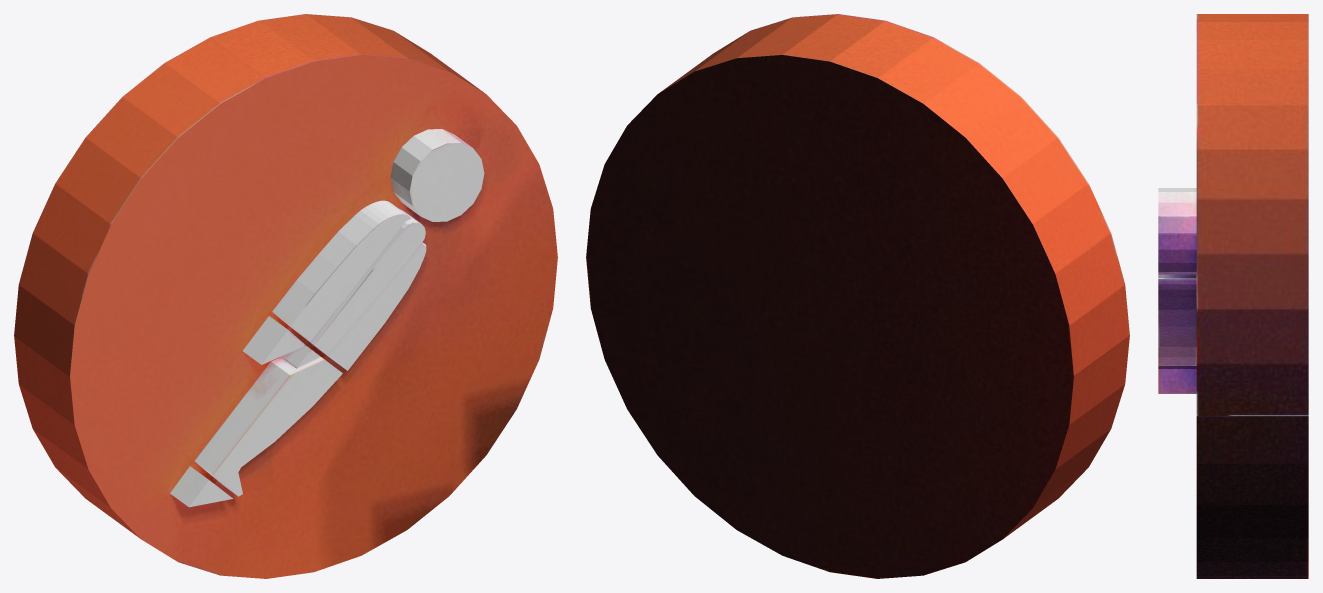
The model's file is icon_postman.glb.
3 renders of one model, left to right at view 1: azimuth 30°, elevation 25°; view 2: azimuth 150°, elevation 25°; view 3: azimuth 270°, elevation 25°, orthographic.
Visible parts, largest first — view 1: icon_postman; view 2: icon_postman; view 3: icon_postman.
Boxes of the visible parts, x1,y1,x2,y2 form: icon_postman: (14, 14, 557, 578); icon_postman: (586, 14, 1129, 578); icon_postman: (1158, 14, 1308, 578).
Bounding box in the file's own units: 3.28 × 3.28 × 0.8726.
1 material, 1 textured.
